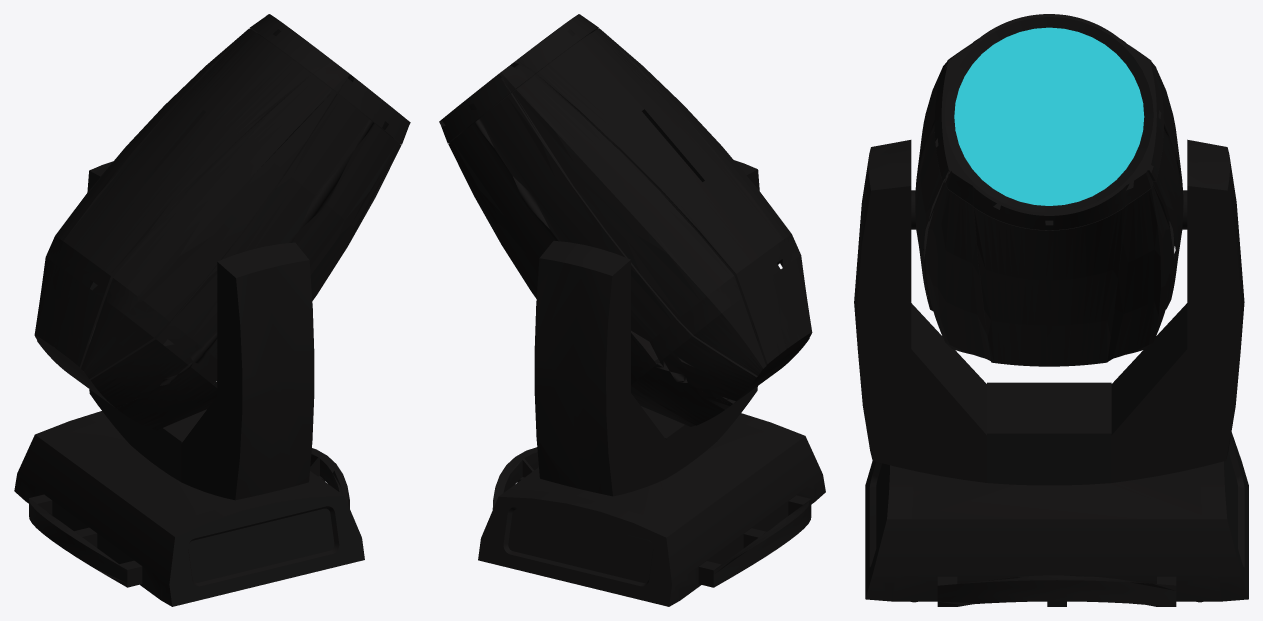
Rendered from spot.glb.
The picture shows the model from 3 angles, left to right: view 1: azimuth 30°, elevation 25°; view 2: azimuth 150°, elevation 25°; view 3: azimuth 270°, elevation 25°; orthographic projection. The views are drawn at different scales.
Visible parts, largest first — view 1: Object_4; view 2: Object_4; view 3: Object_4, Object_2.
Boxes of the visible parts, box(x1,y1,x2,y2) form: Object_4: box(14, 14, 410, 606); Object_4: box(439, 14, 825, 606); Object_4: box(854, 14, 1248, 606); Object_2: box(954, 27, 1144, 205).
Size of what is drawn, in the model's own units: 0.2355 by 0.3242 by 0.1959.
